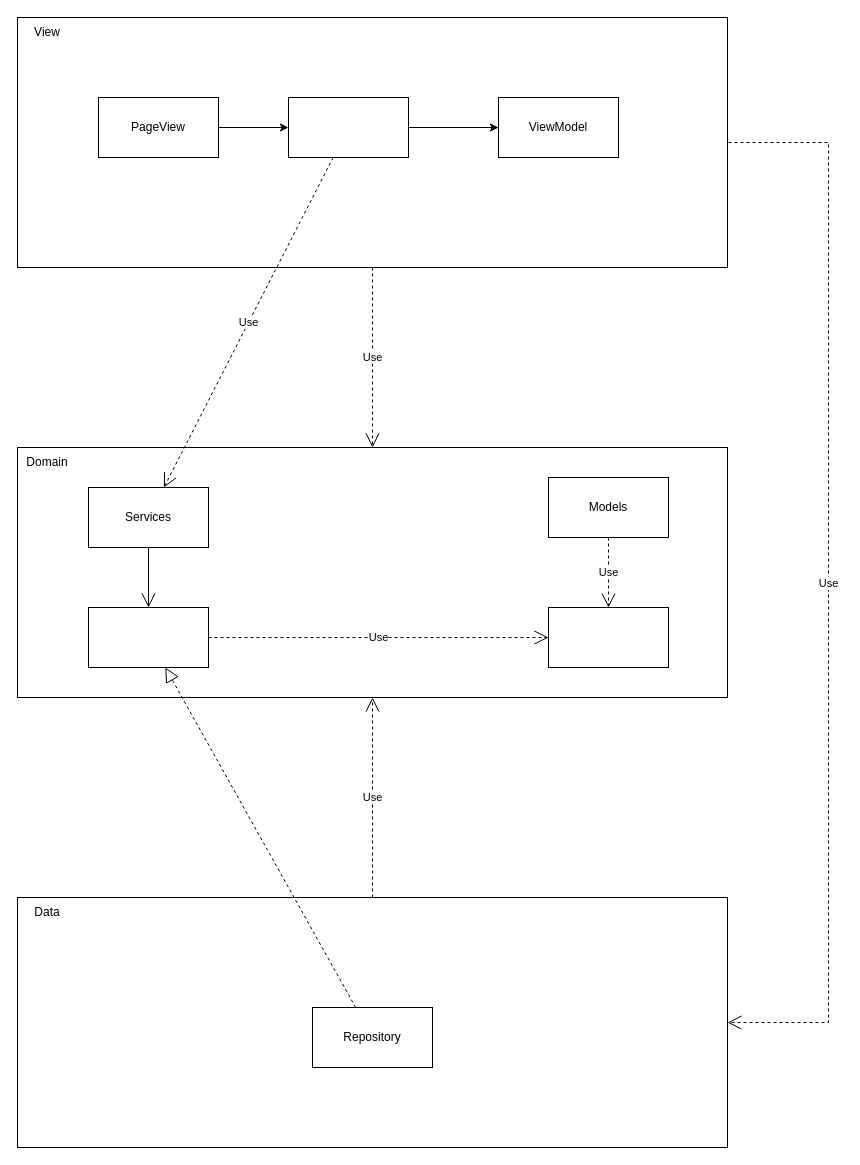
The diagram is 860 pixels wide and 1165 high, and some of its shapes have lost their labels. Here are the shapes that lost their labels. From the top down, the centre of each, then its label:
At point 348,127: "ViewController".
At point 148,637: "IRepository".
At point 608,637: "DTO".
